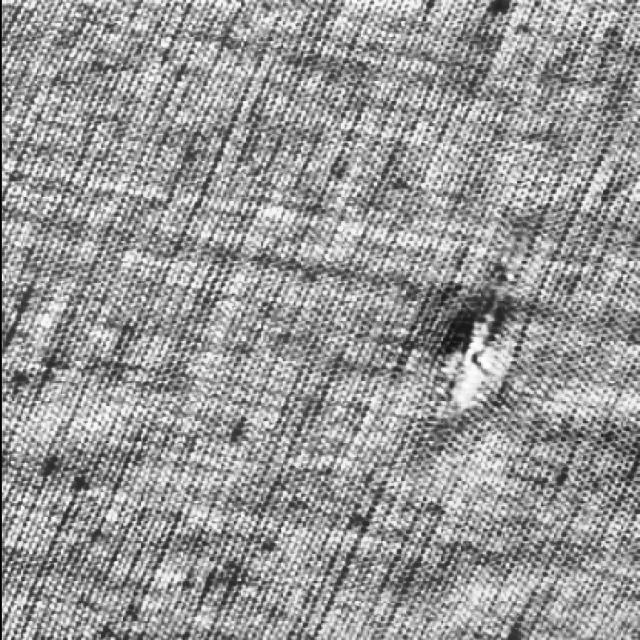thread_error: (400, 284, 534, 454)
